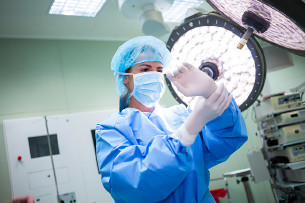face_mask: (131, 58, 165, 105)
